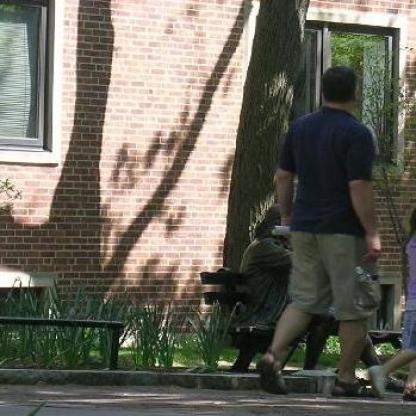person: (259, 65, 372, 400)
